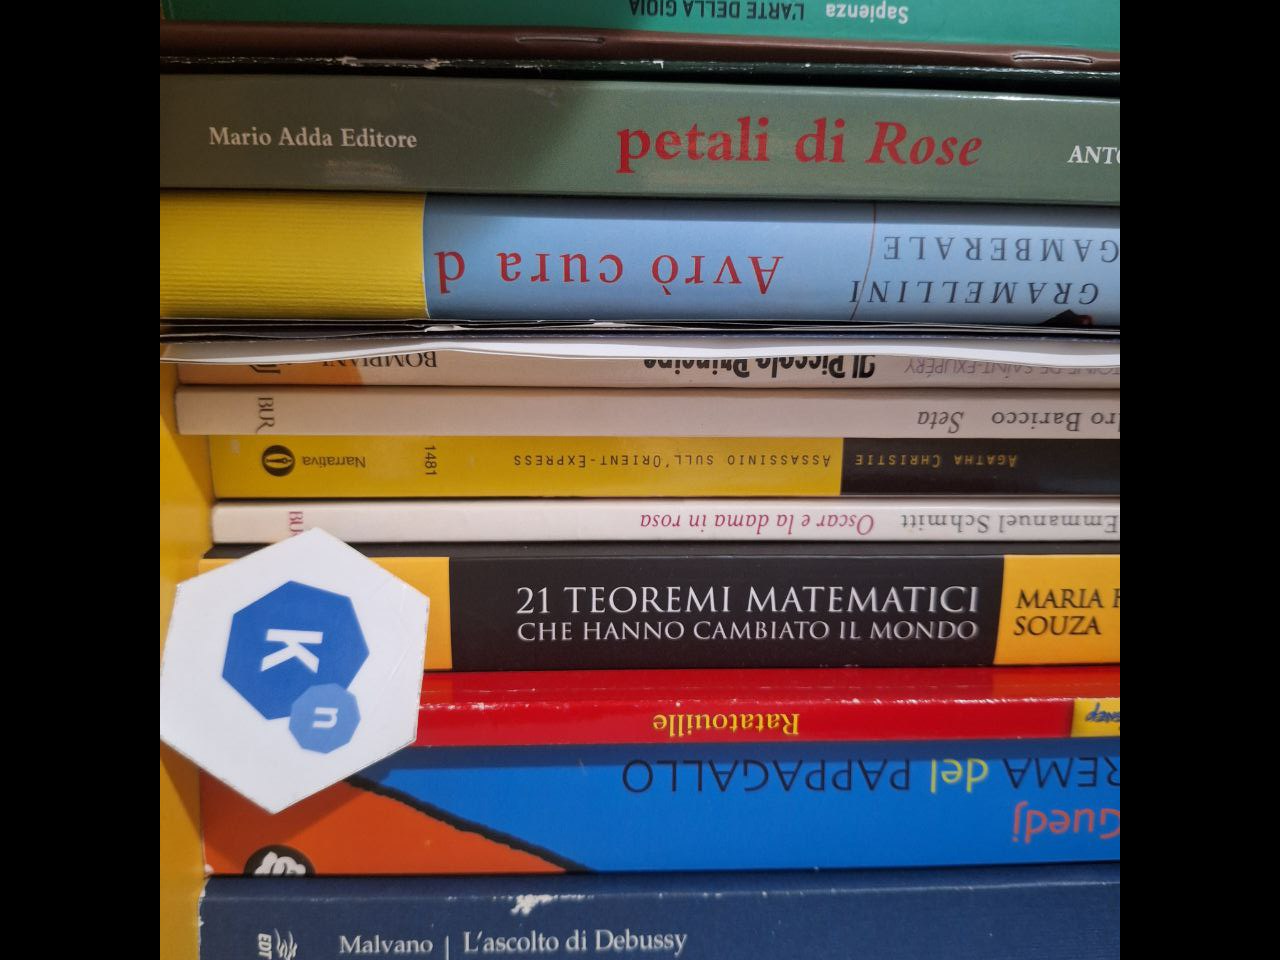knative: (219, 582, 373, 757)
